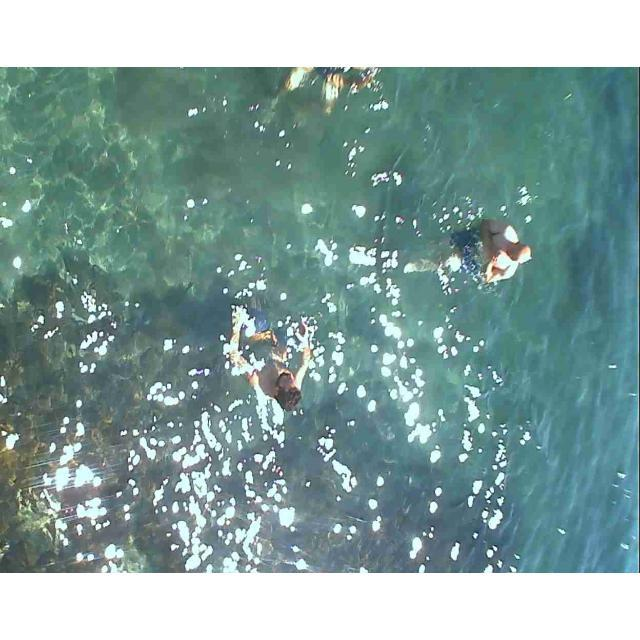human: (236, 301, 335, 428), (473, 214, 529, 300), (300, 67, 391, 116)
